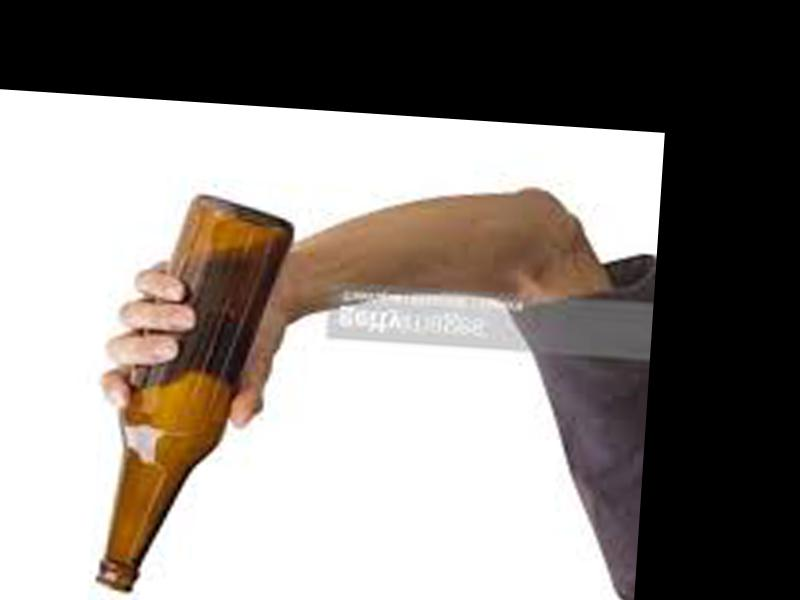Beer: (95, 192, 299, 600)
